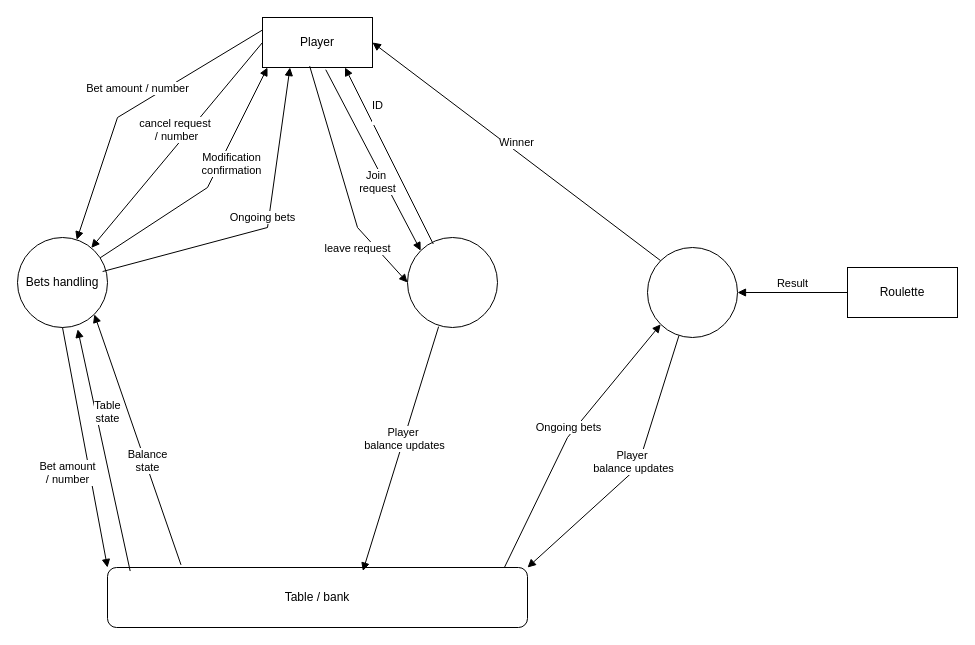
Image size: 975x645. Some labels were removed from this diagram. Here are the shapes that lost their labels. From the top down, the centre of each, then its label:
the point at 452,282: Player handling
the point at 692,292: End Game
